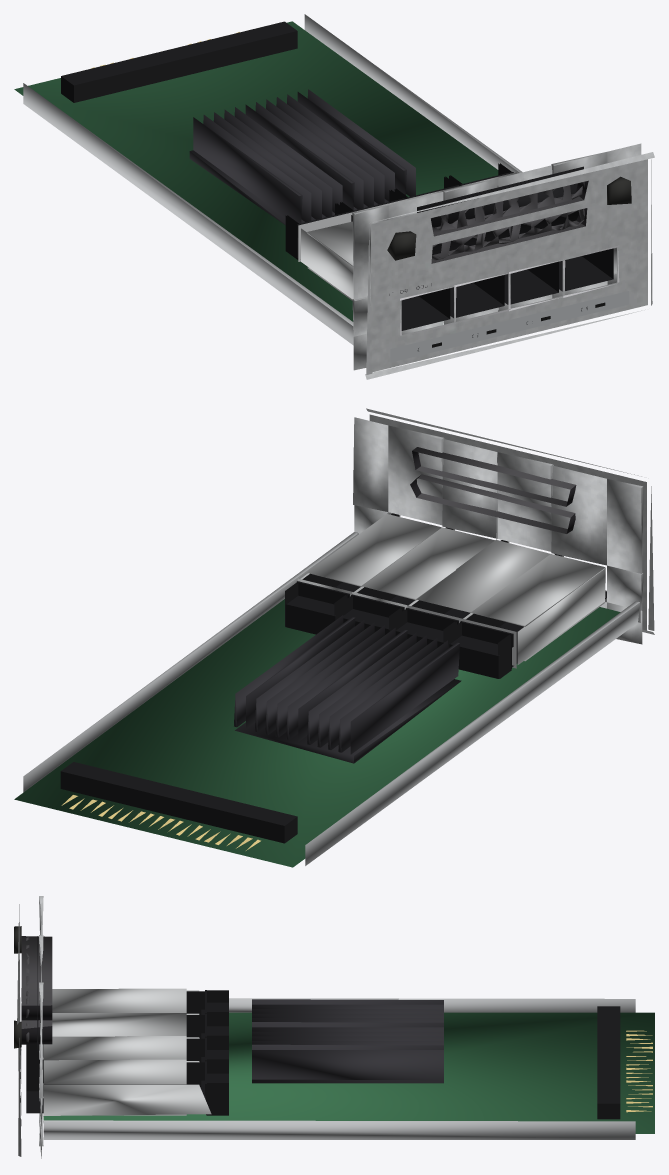
Rendered from C3850-NM-4-10G.far.glb.
3 renders of one model, top to bottom at view 1: azimuth 30°, elevation 25°; view 2: azimuth 150°, elevation 25°; view 3: azimuth 270°, elevation 25°, orthographic. The views are drawn at different scales.
Visible parts, largest first — view 1: Body_far; view 2: Body_far; view 3: Body_far.
Part boxes in pixels (<box>): Body_far: <box>14,14,654,379</box>; Body_far: <box>14,408,654,867</box>; Body_far: <box>14,896,654,1158</box>.
Bounding box in the file's own units: 0.0772 × 0.0403 × 0.167.
4 materials, 3 textured.
